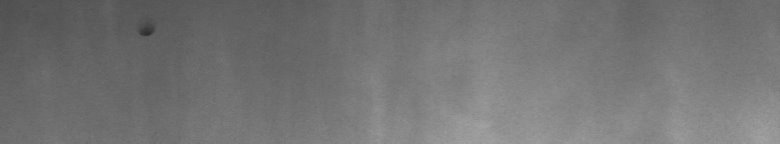fi: (137, 24, 156, 44)
